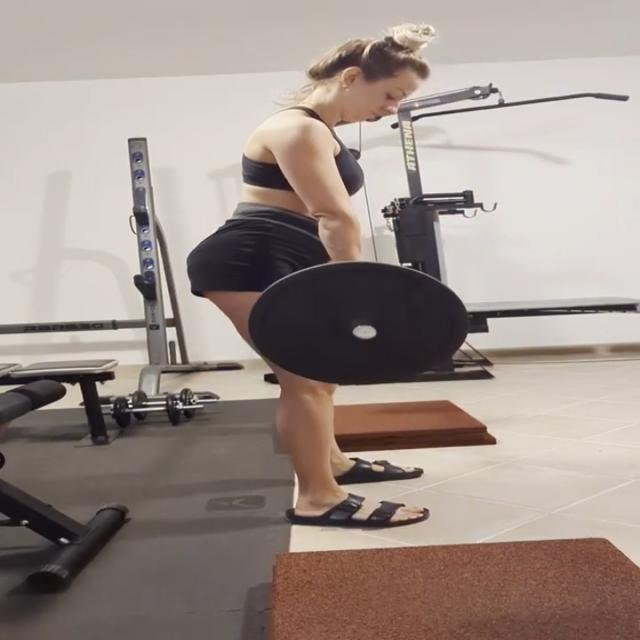barbell: (246, 260, 473, 392)
